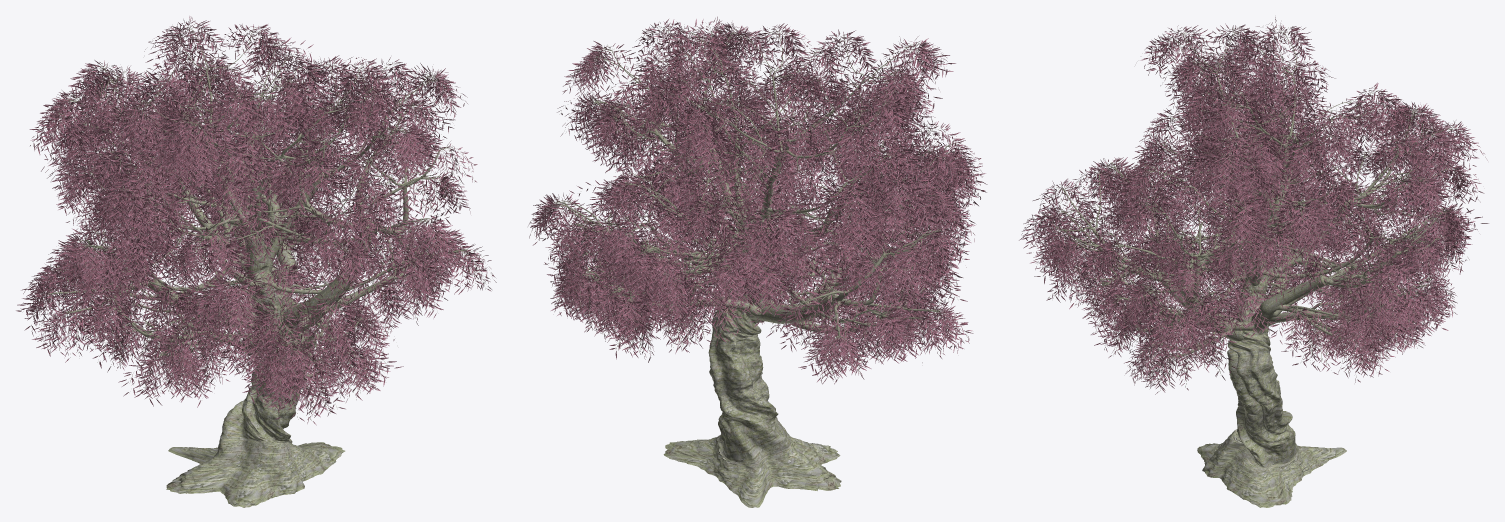
The model's file is weeping-s23.glb.
3 renders of one model, left to right at view 1: azimuth 30°, elevation 25°; view 2: azimuth 150°, elevation 25°; view 3: azimuth 270°, elevation 25°, orthographic. The views are drawn at different scales.
Visible parts, largest first — view 1: BlossomPlantFactory_weeping-s23; view 2: BlossomPlantFactory_weeping-s23; view 3: BlossomPlantFactory_weeping-s23.
Part boxes in pixels (<box>): BlossomPlantFactory_weeping-s23: <box>16,16,496,507</box>; BlossomPlantFactory_weeping-s23: <box>528,16,987,507</box>; BlossomPlantFactory_weeping-s23: <box>1019,17,1488,507</box>.
Size of the model in its own units: 9.21 by 8.9 by 9.79.
Materials: 2 (2 with a texture image).
